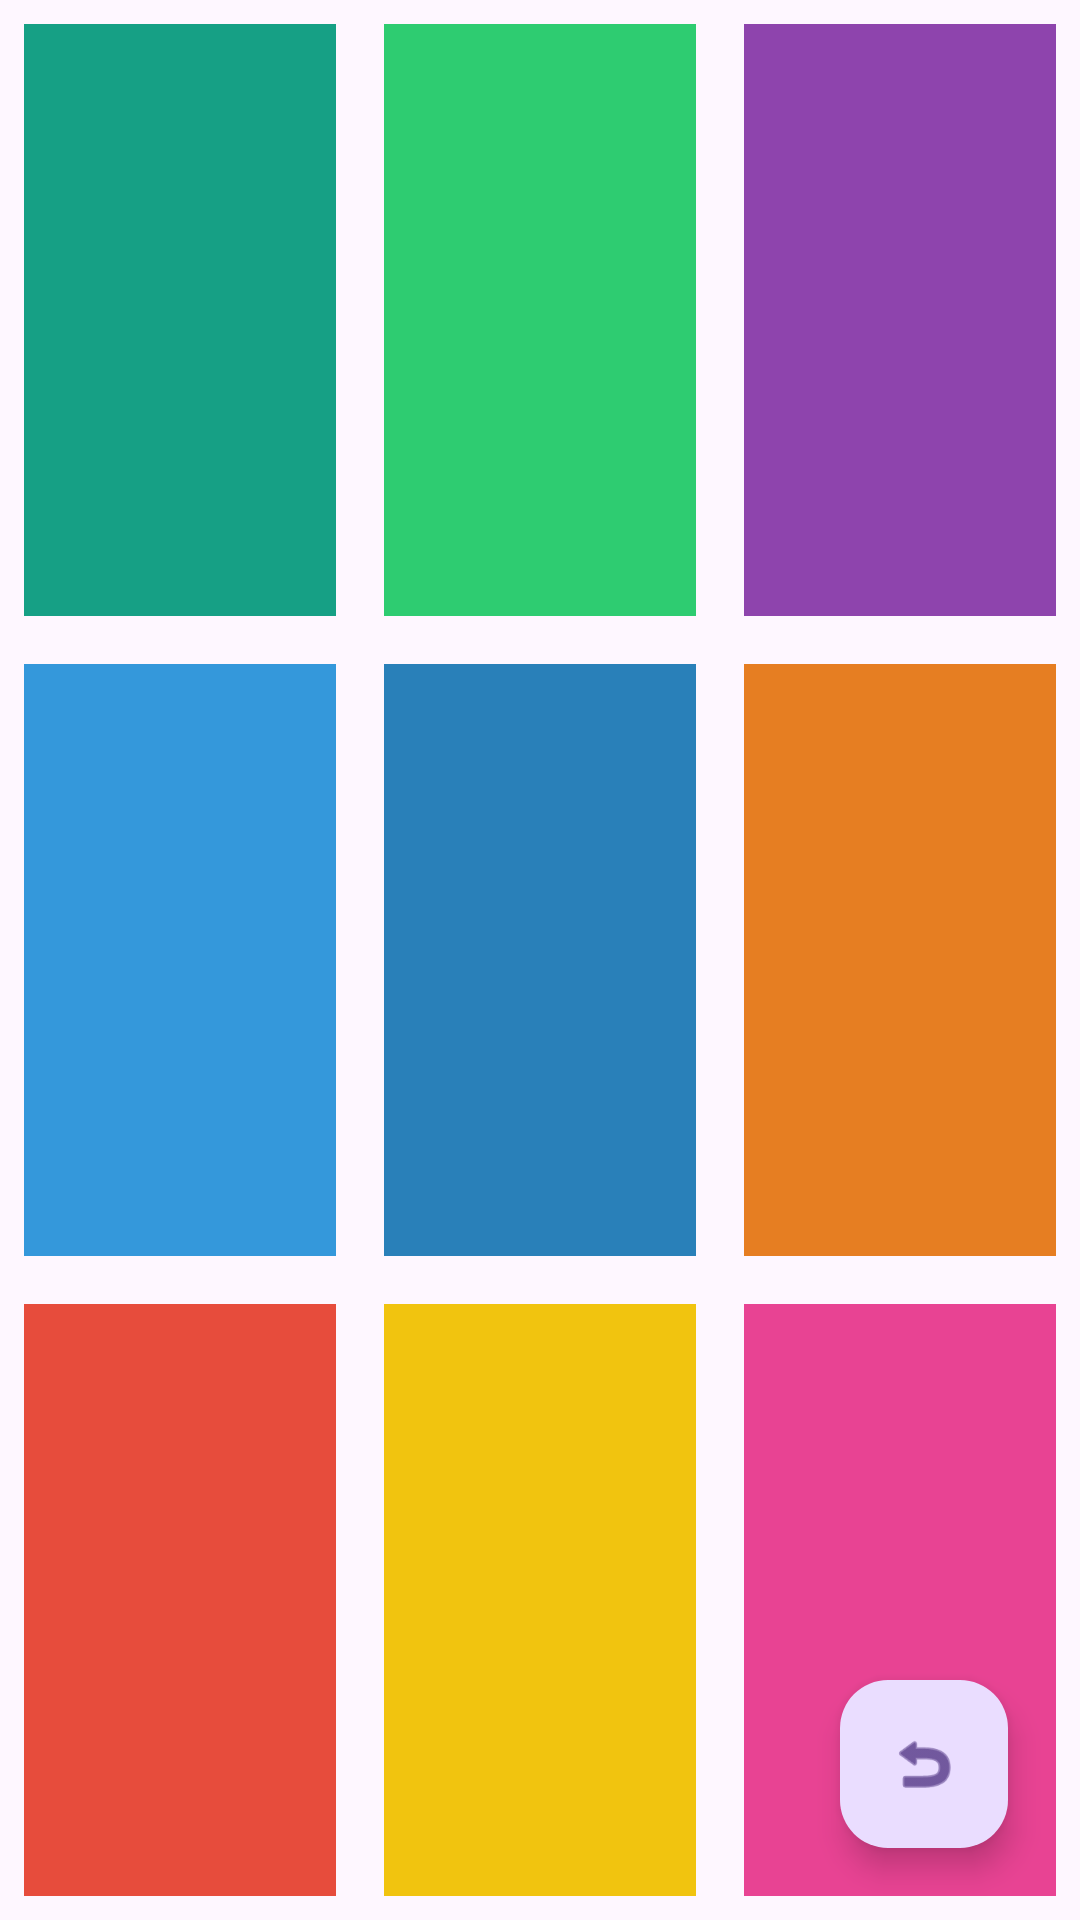

Icons on this 1080 x 1920 Android screen, each with the point to tap as point (x, y):
Volver al menú: point (924, 1764)
